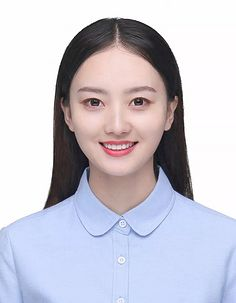unmask: (73, 54, 164, 168)
